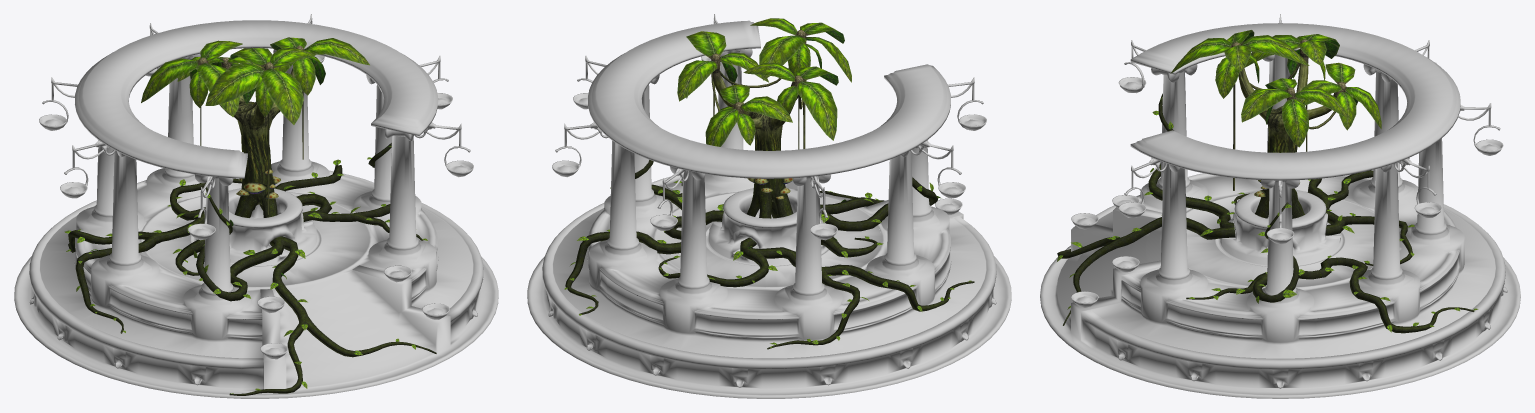
Rendered from Temple.obj.
3 views of the same model, side by side, from view 1: azimuth 30°, elevation 25°; view 2: azimuth 150°, elevation 25°; view 3: azimuth 270°, elevation 25° (orthographic).
Parts seen in each view (by area): view 1: cage_stairs_01; view 2: cage_stairs_01; view 3: cage_stairs_01.
Boxes of the visible parts, x1=… form: cage_stairs_01: x1=14, y1=14, x2=498, y2=398; cage_stairs_01: x1=527, y1=14, x2=1011, y2=398; cage_stairs_01: x1=1040, y1=14, x2=1520, y2=398.
Size of the model in its own units: 1024 by 722 by 1024.
